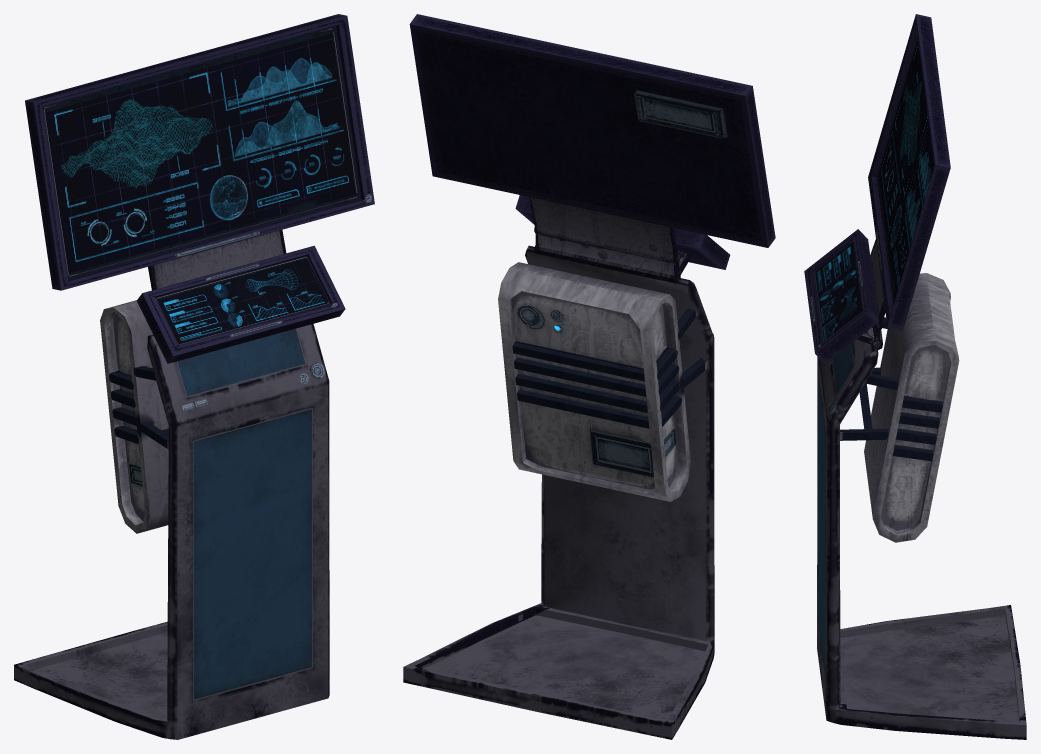
The picture shows the model from 3 angles, left to right: view 1: azimuth 30°, elevation 25°; view 2: azimuth 150°, elevation 25°; view 3: azimuth 270°, elevation 25°; orthographic projection. The views are drawn at different scales.
Visible parts, largest first — view 1: terminal_low; view 2: terminal_low; view 3: terminal_low.
Part boxes in pixels (x1,y1,x2,y2): terminal_low: [14, 14, 374, 739]; terminal_low: [403, 14, 775, 739]; terminal_low: [804, 14, 1026, 739].
Bounding box in the file's own units: 34.77 × 63.3 × 21.53.
Materials: 1 (1 with a texture image).
